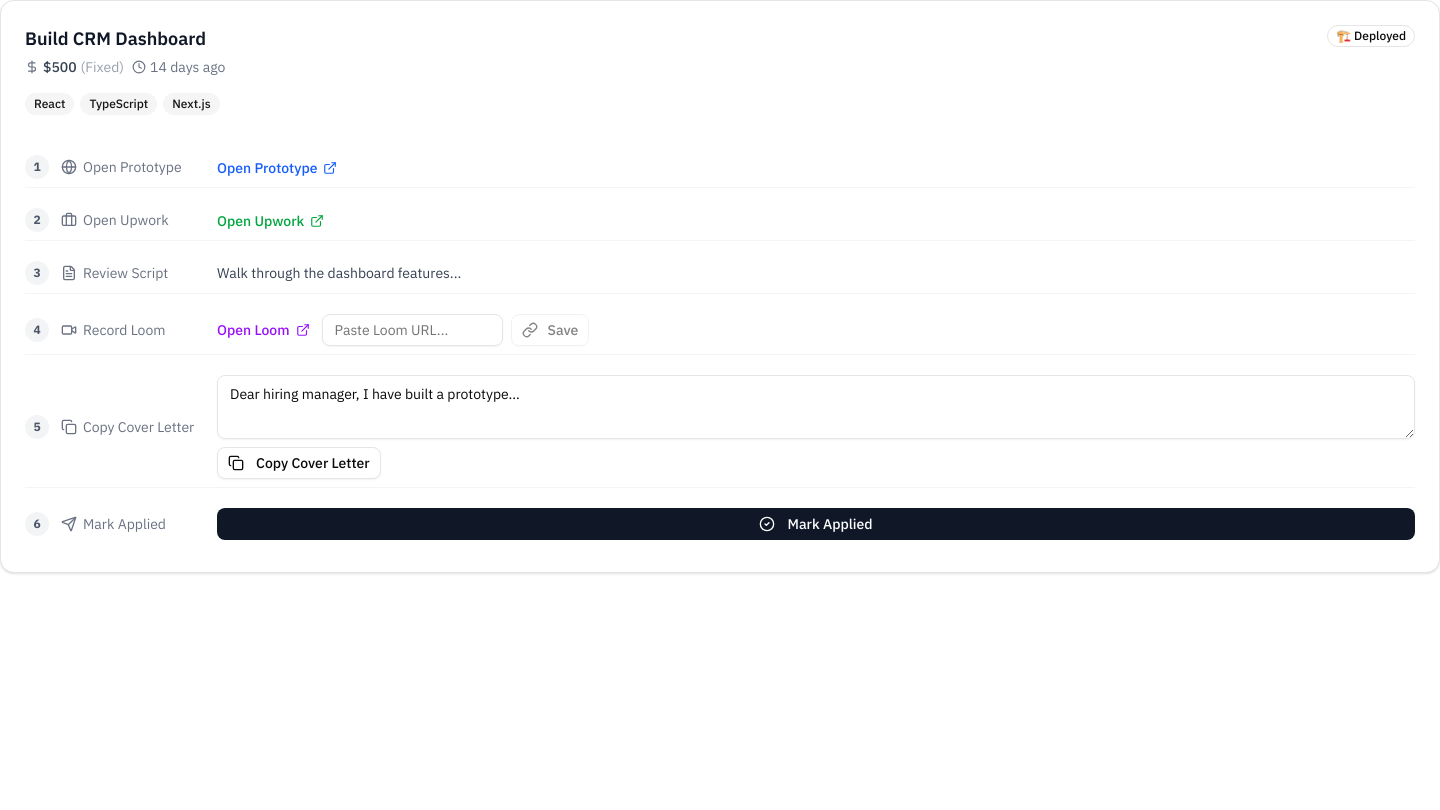
Test: SendCard - Edge Cases › should show inline error when markApplied fails
Step 1. Click the button "Mark Applied" → (816, 524), box [217,508,1415,540]
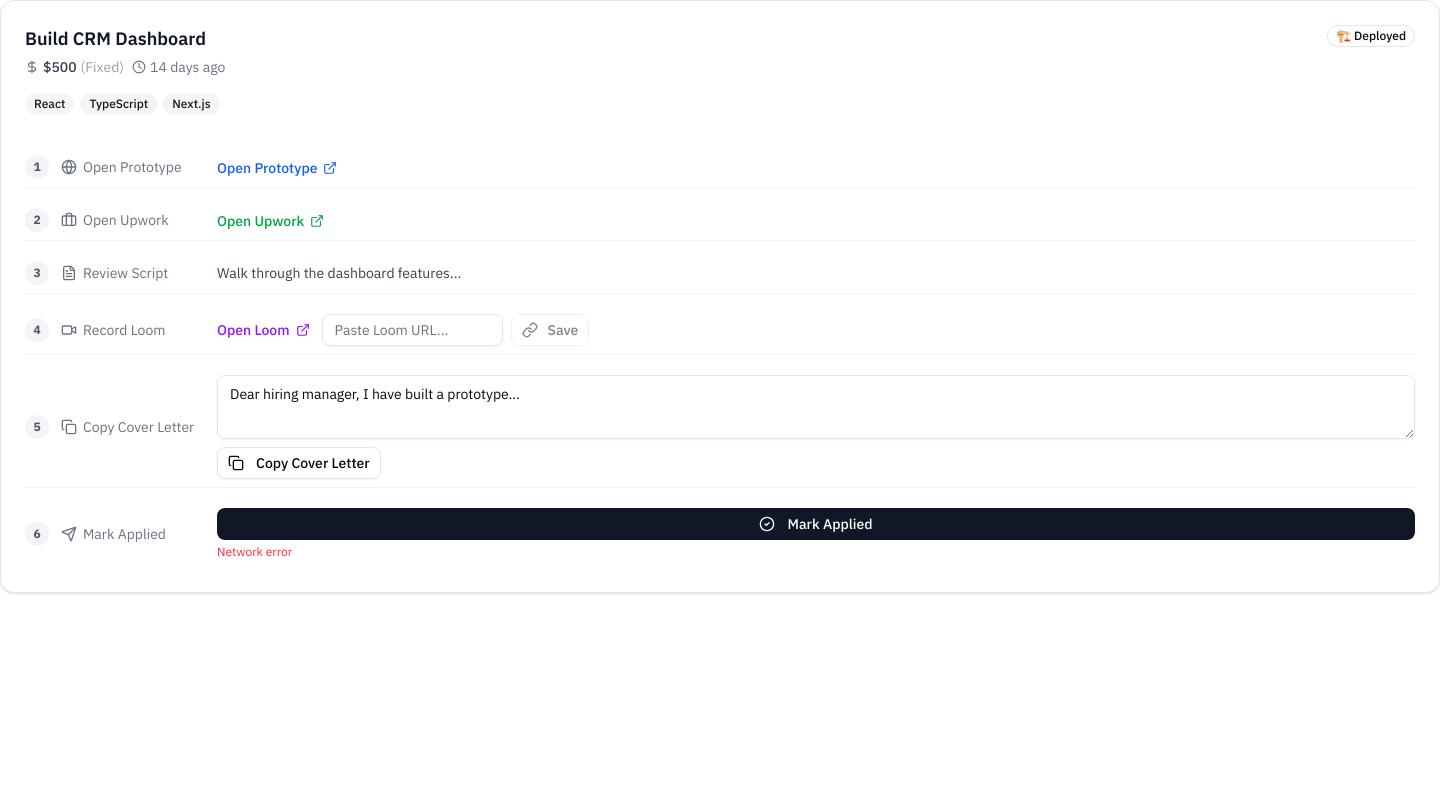
Expected: the heading "Build CRM Dashboard" is shown, [25,27,206,50]
Expected: the text "Network error" is shown, [217,544,292,559]
